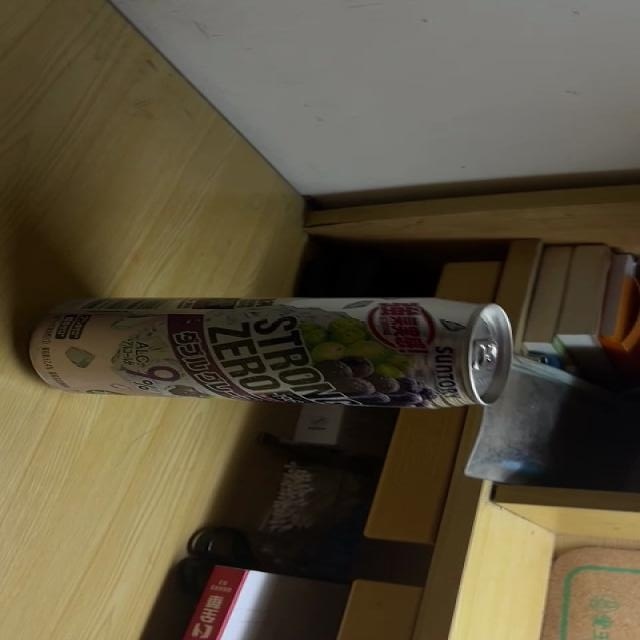Liquor: (30, 299, 511, 409)
